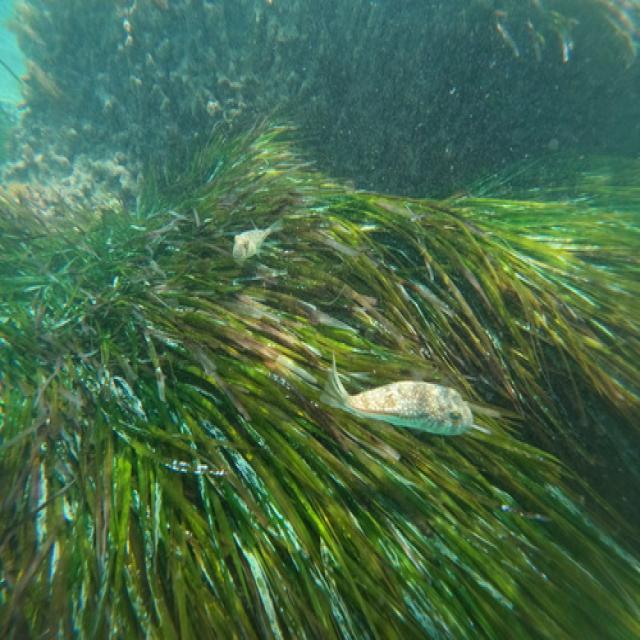Balik: (323, 359, 483, 435), (233, 221, 281, 262)
